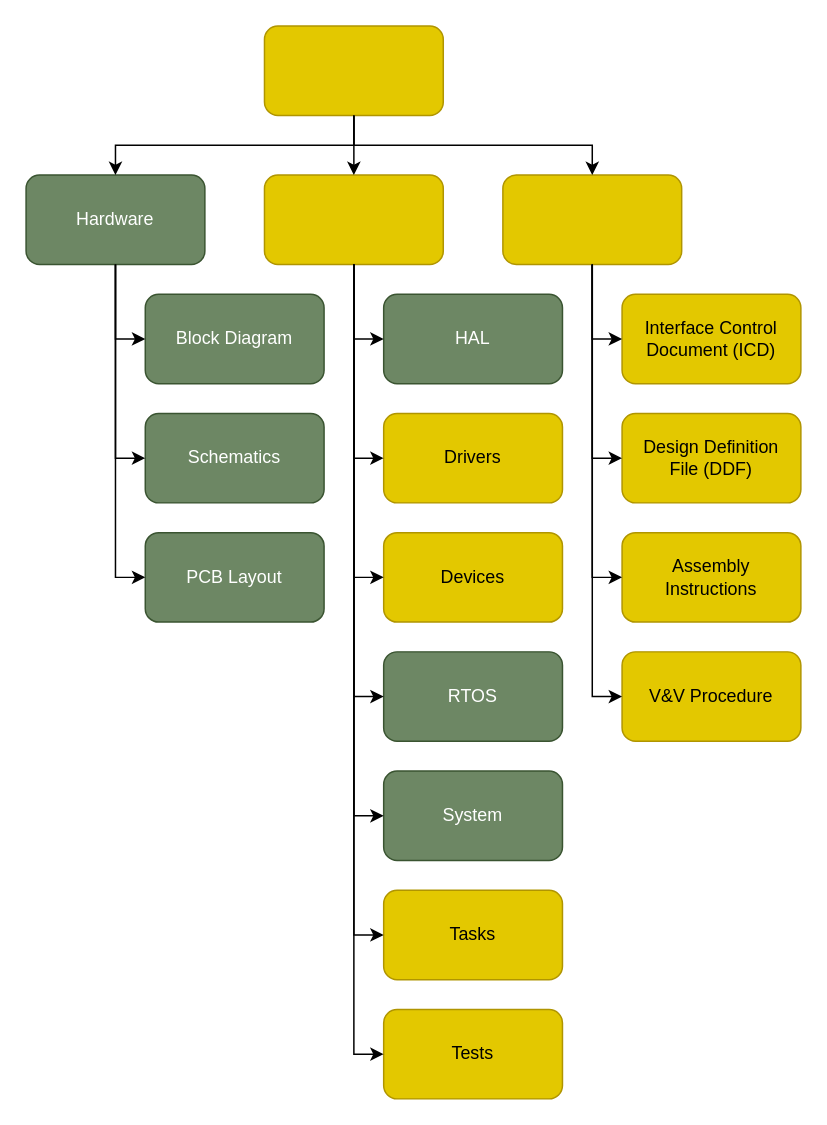
Image size: 827x1125. Some labels were removed from this diagram. Each missing label, with the box of its shape:
Documentation: (501, 174, 682, 264)
Firmware: (263, 174, 443, 264)
OBDH 2.0: (263, 25, 443, 115)
